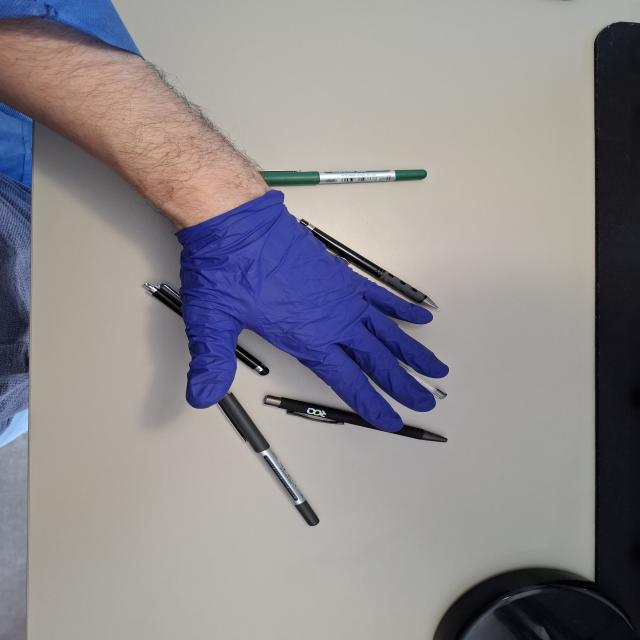glove_on: (168, 186, 452, 436)
